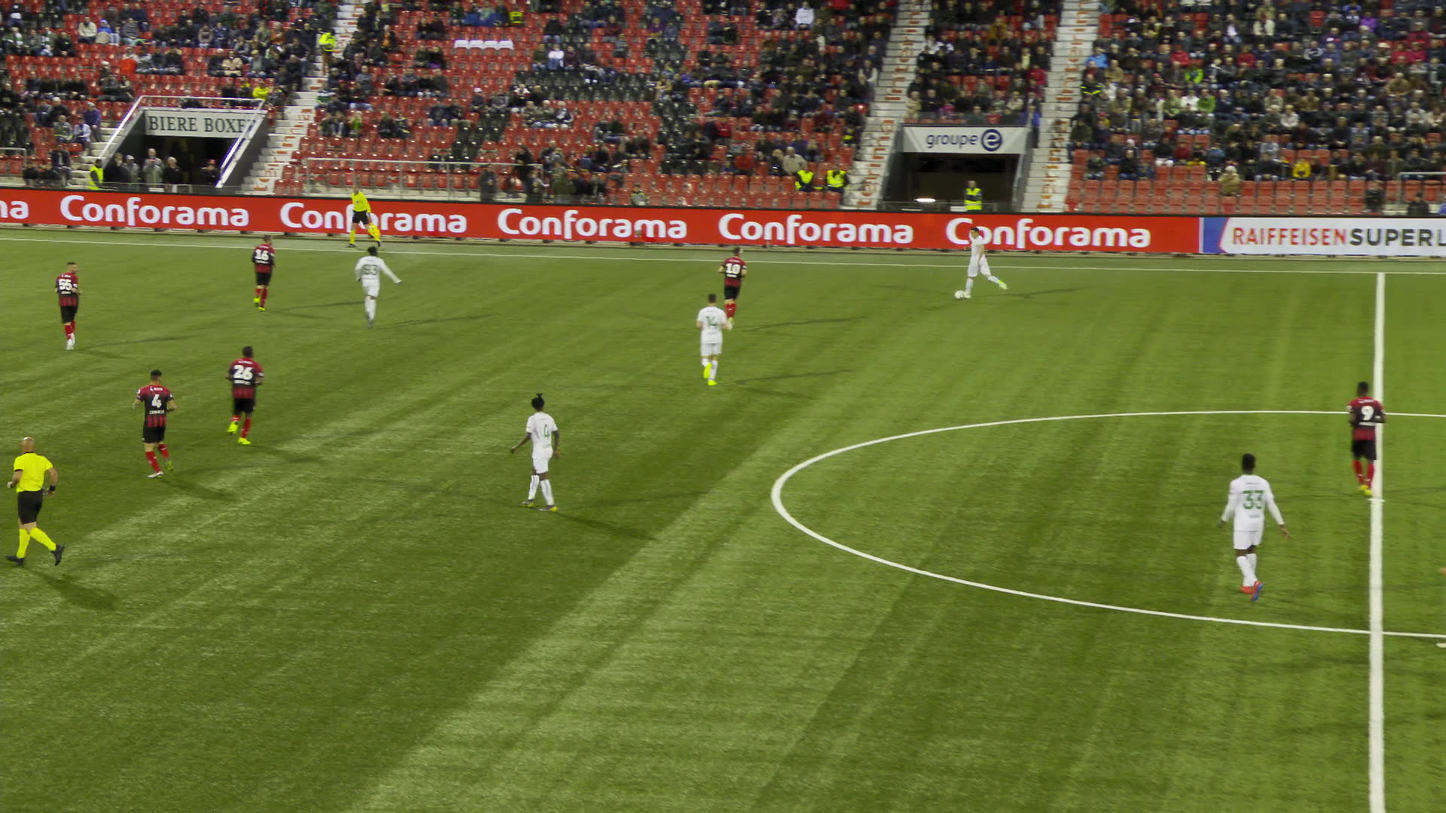ball: (953, 290, 962, 297)
player: (1212, 451, 1283, 596), (511, 391, 560, 510), (133, 365, 180, 475), (1339, 380, 1380, 495), (221, 343, 260, 447), (349, 245, 395, 323), (691, 291, 722, 385), (51, 260, 83, 349), (962, 227, 1000, 299), (715, 246, 744, 326), (248, 233, 273, 311), (1425, 562, 1445, 646)
referee: (3, 438, 65, 565), (349, 184, 370, 247)
